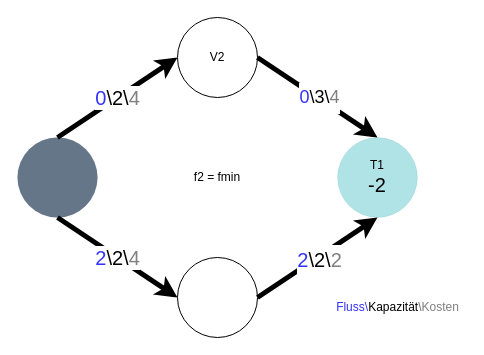
This 484x355 diagram has some shape labels left out. Here are the shapes that lost their labels. From the top down, the box of each, then its label:
(17, 137, 97, 217): S1 +2
(176, 256, 258, 338): V1
